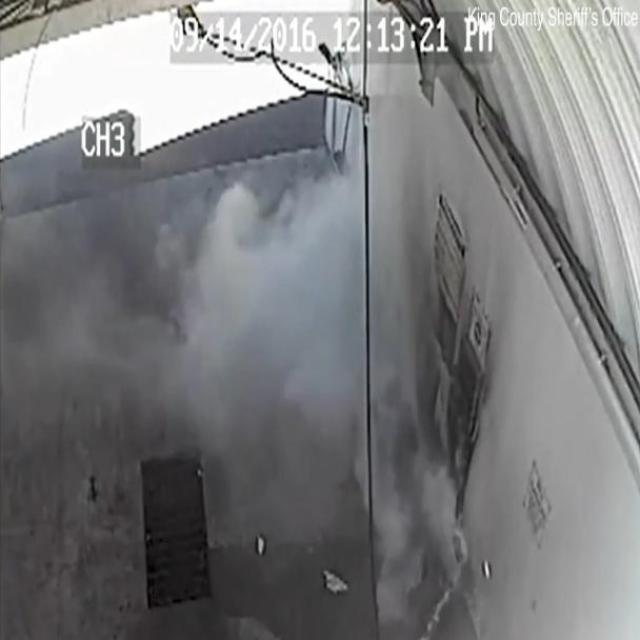Smoke: (236, 193, 356, 494)
